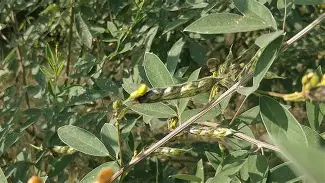crops: (0, 14, 314, 176)
